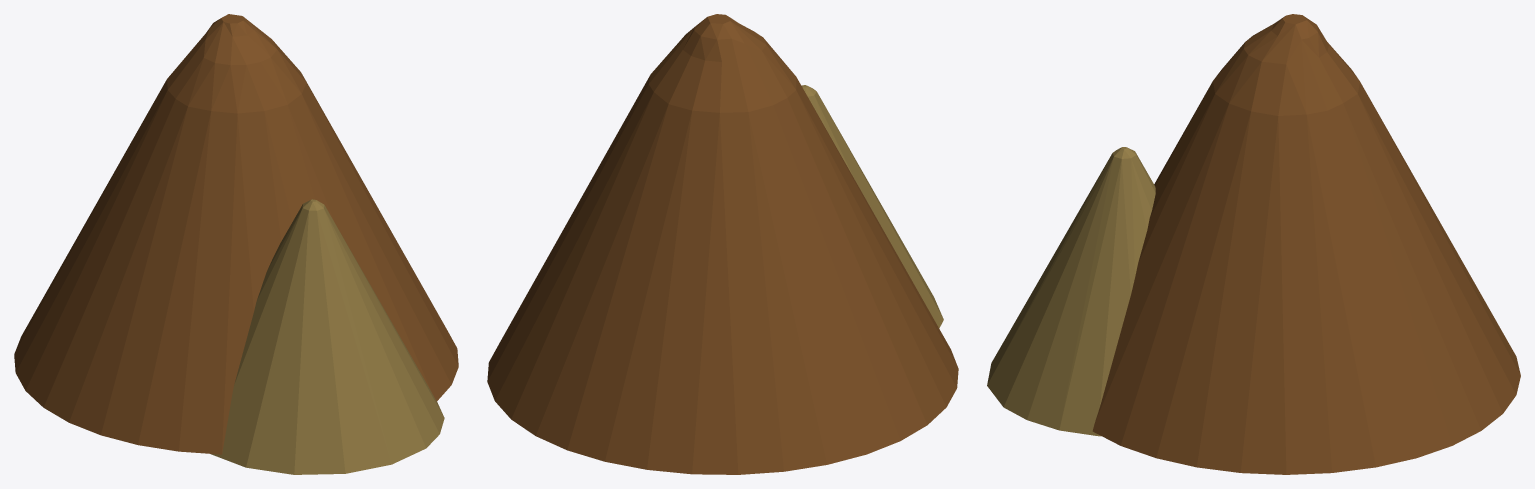
Rendered from earth.fbx.
The picture shows the model from 3 angles, left to right: view 1: azimuth 30°, elevation 25°; view 2: azimuth 150°, elevation 25°; view 3: azimuth 270°, elevation 25°; orthographic projection. The views are drawn at different scales.
Parts seen in each view (by area): view 1: 锥体; view 2: 锥体; view 3: 锥体.
Boxes of the visible parts, <box> form: 锥体: <box>14,14,458,474</box>; 锥体: <box>487,14,958,474</box>; 锥体: <box>987,14,1520,474</box>.
Size of the model in its own units: 257 by 218 by 293.
